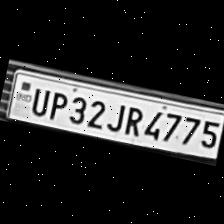2: (82, 94, 108, 130)
3: (63, 91, 89, 126)
4: (138, 104, 164, 140)
5: (194, 116, 221, 152)
7: (158, 107, 182, 143), (175, 111, 199, 146)
J: (103, 98, 126, 134)
P: (44, 87, 68, 122)
R: (118, 101, 144, 137)
U: (26, 82, 50, 116)
